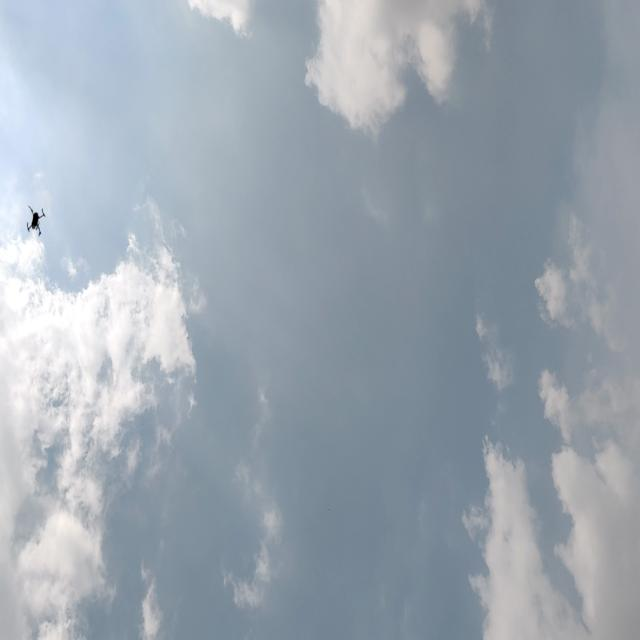drone: (25, 192, 47, 244)
